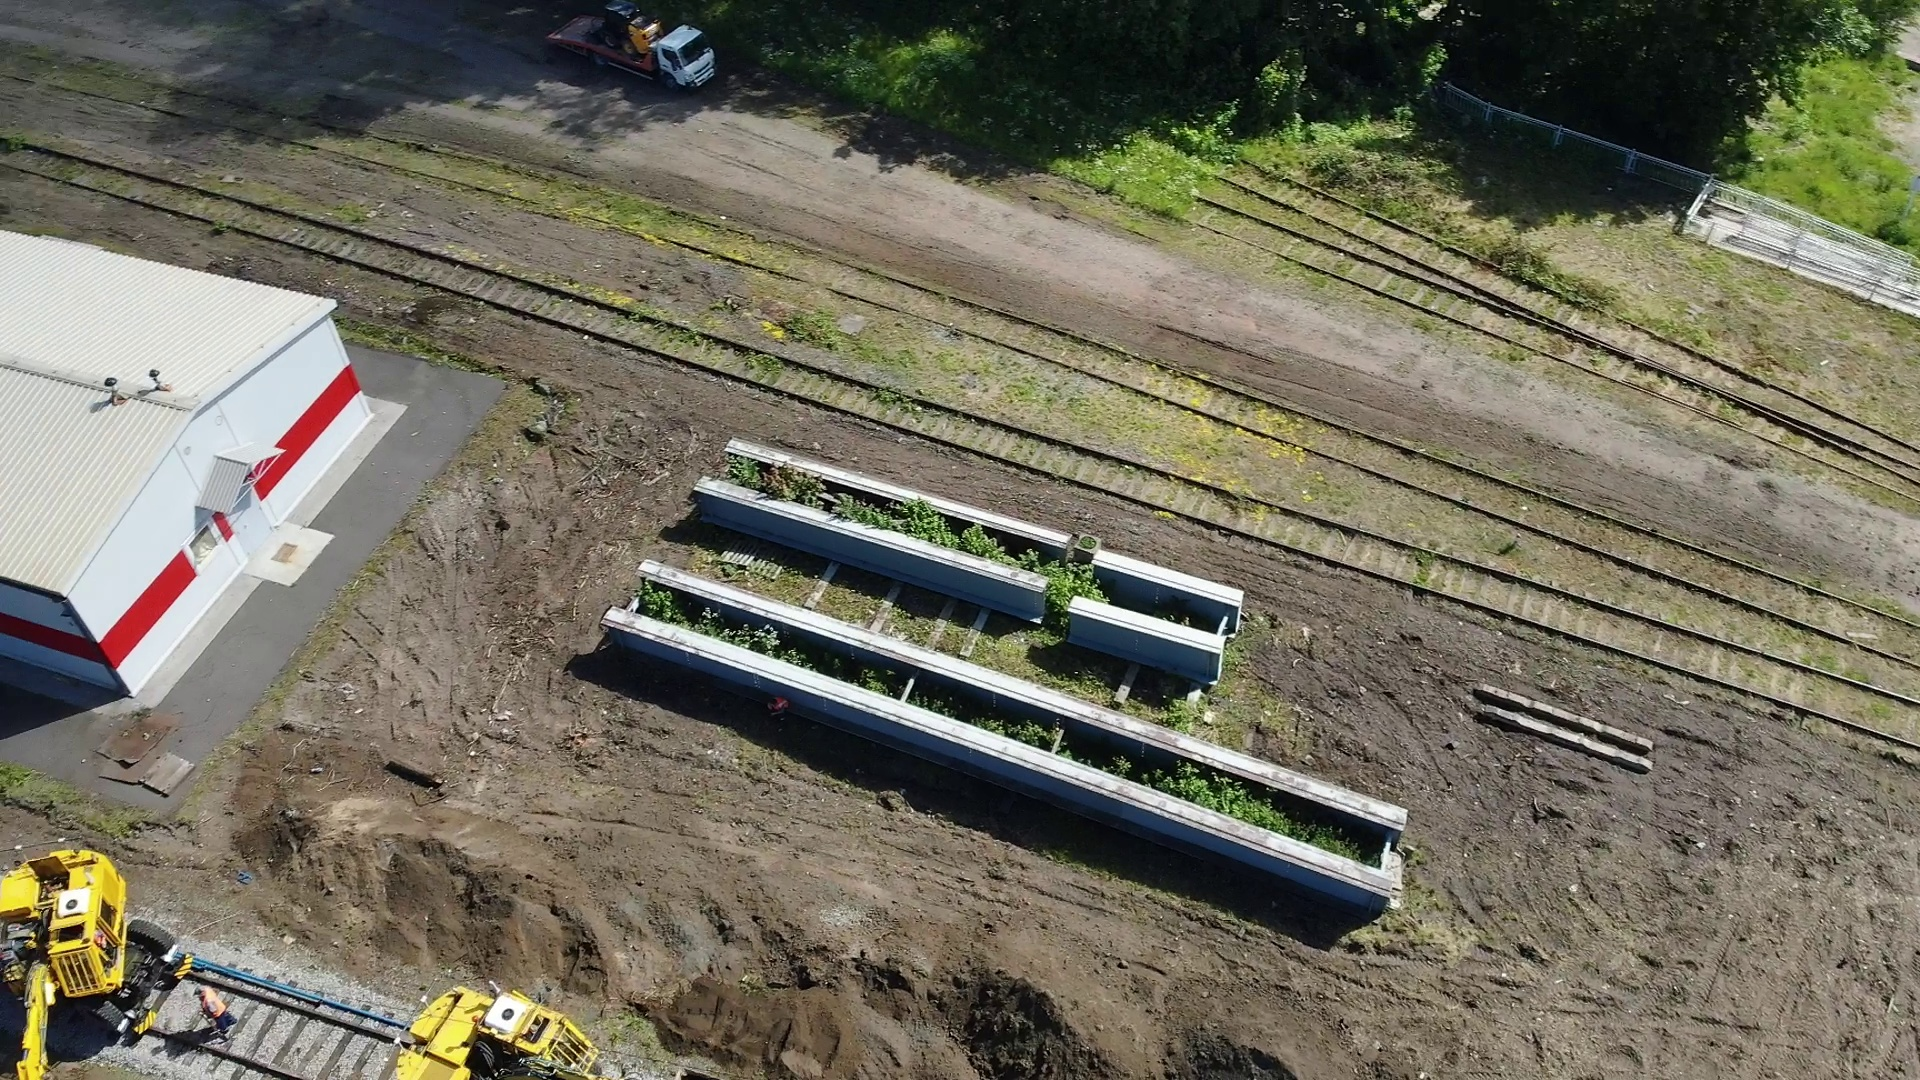kjtv: (1, 837, 196, 1031), (384, 982, 600, 1080)
